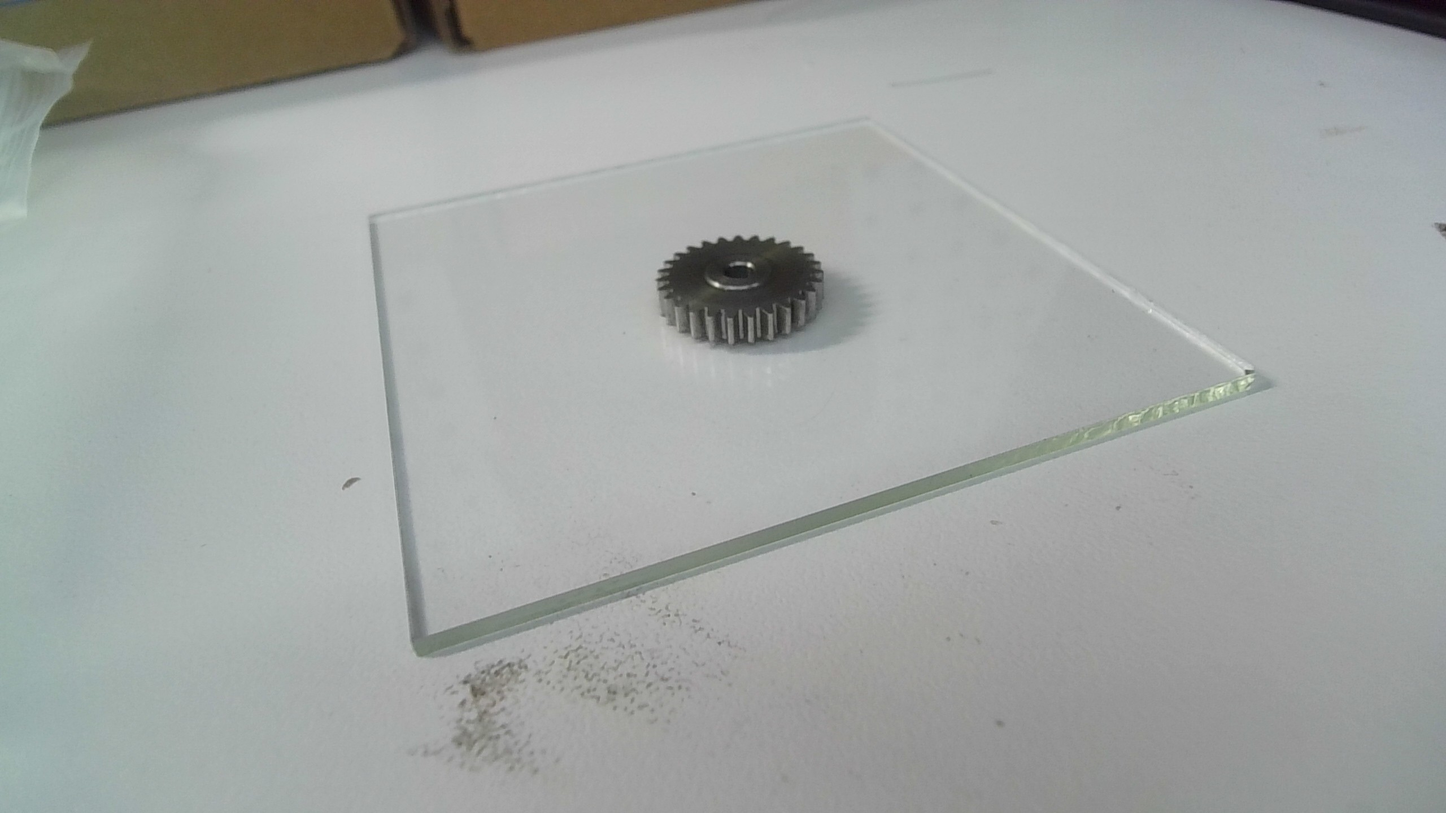gear: (655, 234, 827, 350)
